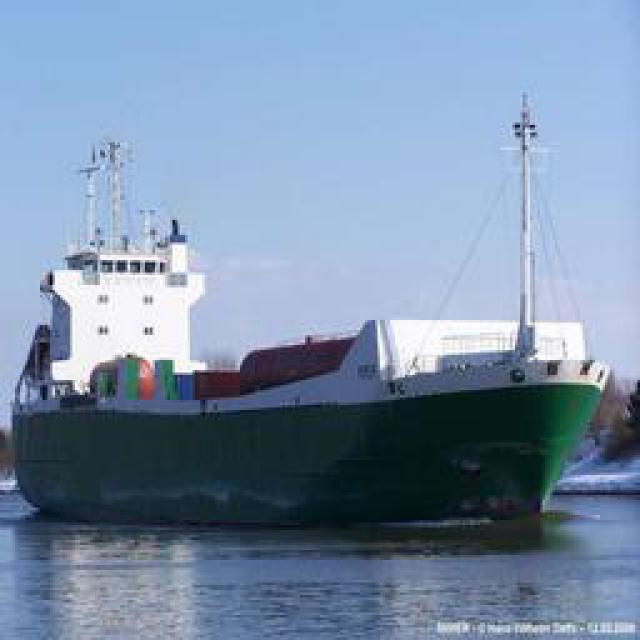Ship: (30, 69, 620, 524)
